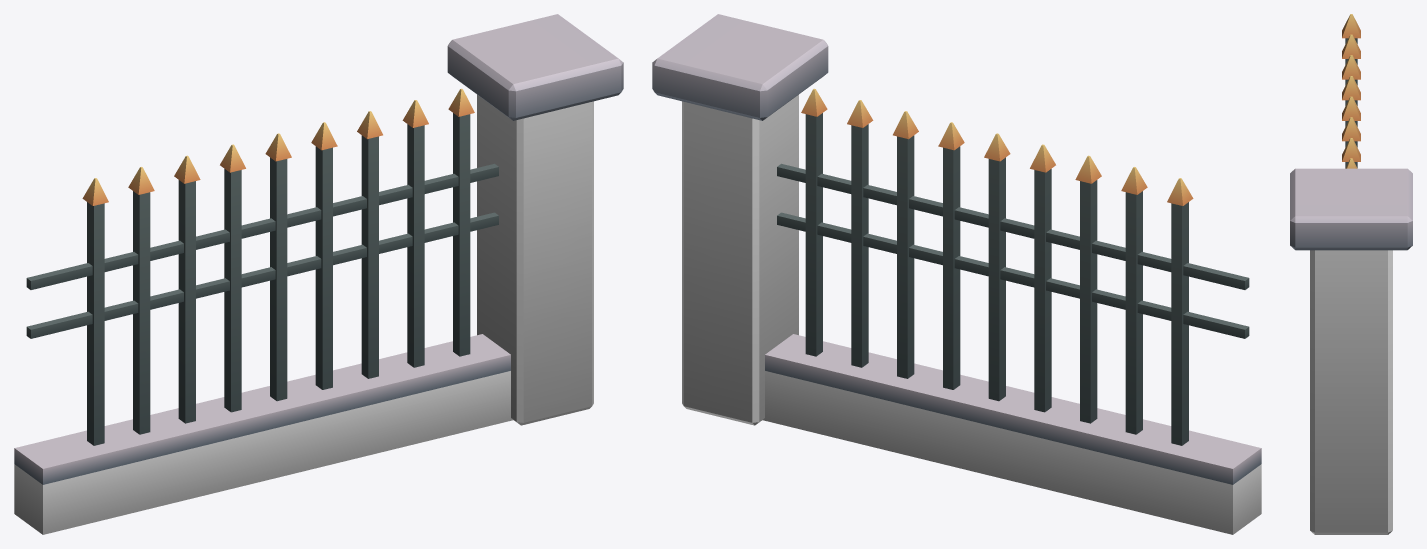
File: lpb_fence_4.fbx
The picture shows the model from 3 angles, left to right: view 1: azimuth 30°, elevation 25°; view 2: azimuth 150°, elevation 25°; view 3: azimuth 270°, elevation 25°; orthographic projection. The views are drawn at different scales.
Parts seen in each view (by area): view 1: fence4; view 2: fence4; view 3: fence4.
Boxes of the visible parts, left/top/right/bottom form: fence4: left=14, top=14, right=623, bottom=534; fence4: left=652, top=14, right=1261, bottom=534; fence4: left=1290, top=14, right=1412, bottom=534.
Size of the model in its own units: 557 by 333 by 113.
